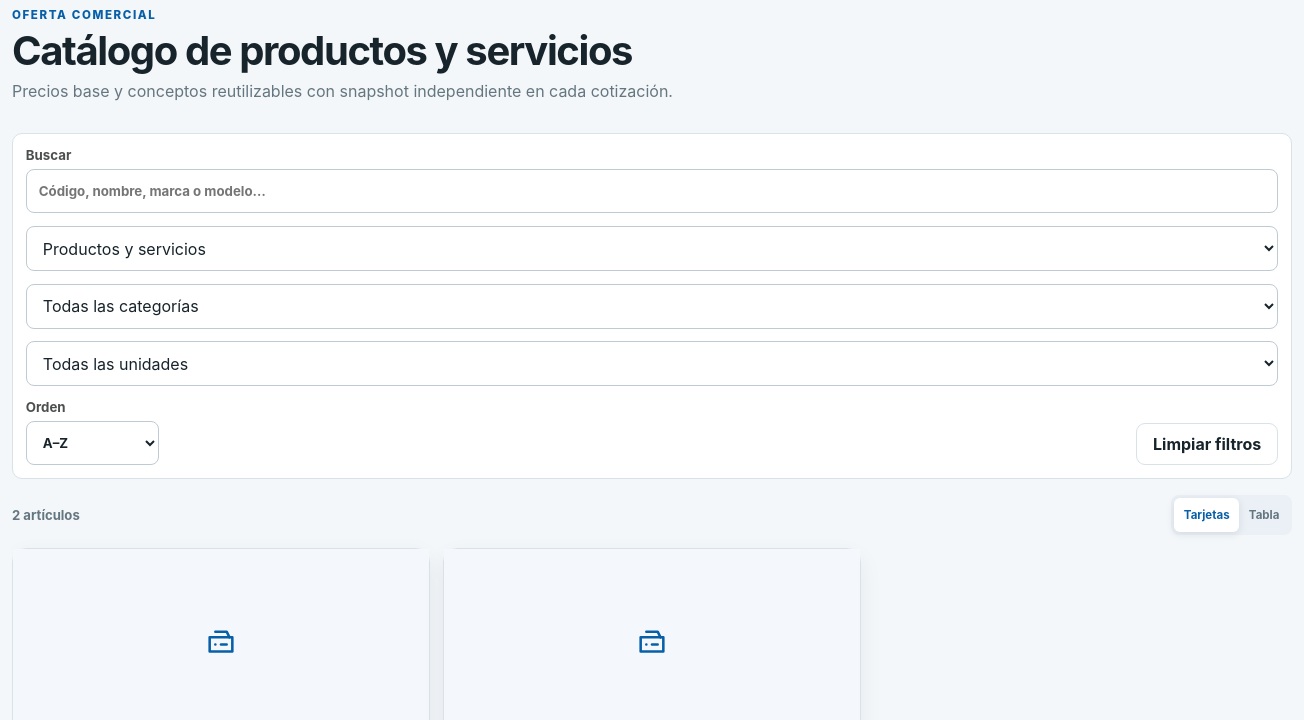
Scenario: CommercialCatalogPage › filtra por unidad y distingue una búsqueda sin coincidencias
Select "pieza" in the dropdown named "Unidad" at (652, 364), box [26,341,1278,386]
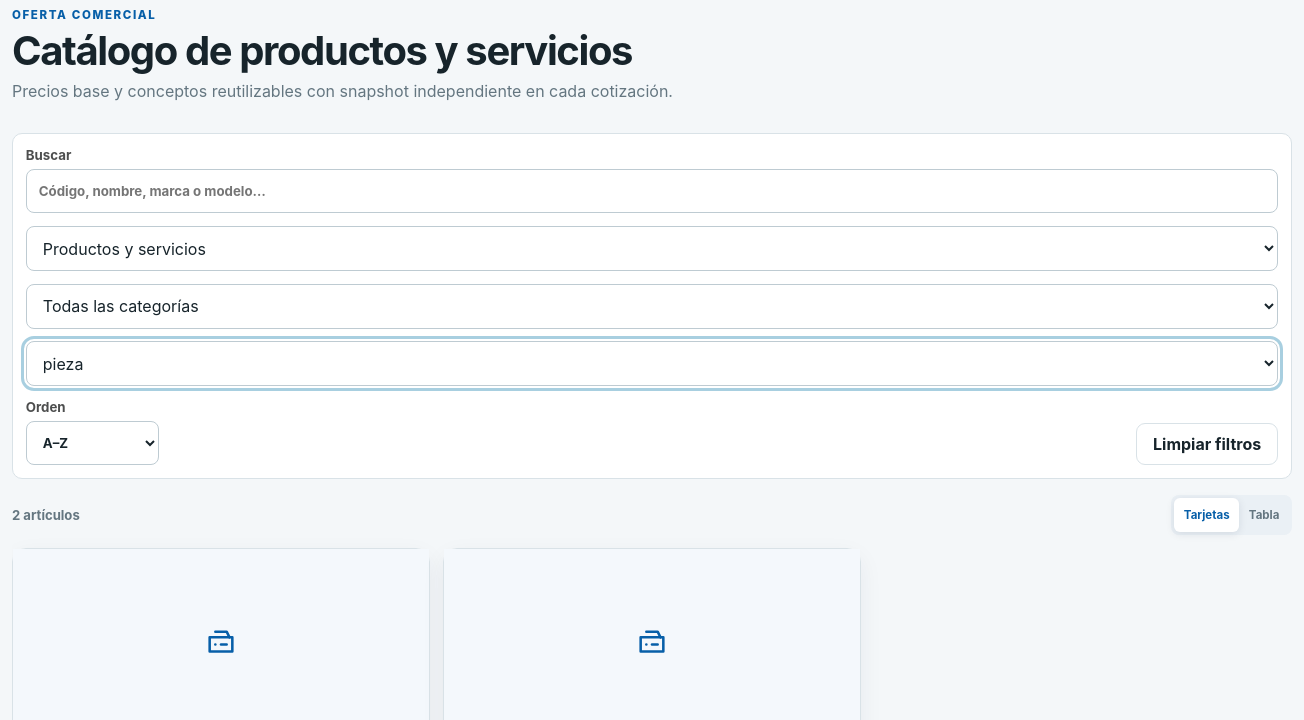
Type "no-existe" into the search field at (652, 191), box [26,169,1278,213]
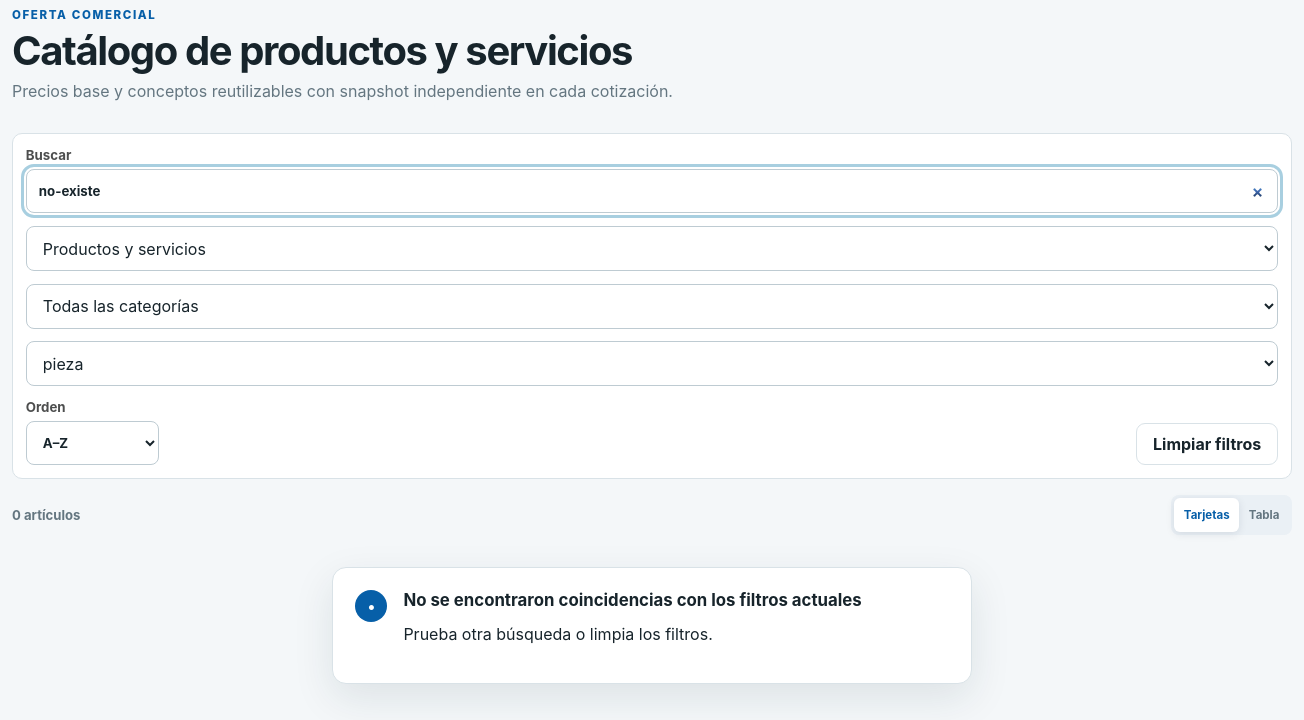
Check: the heading "No se encontraron coincidencias con los filtros actuales" is shown, box [403,590,862,610]
